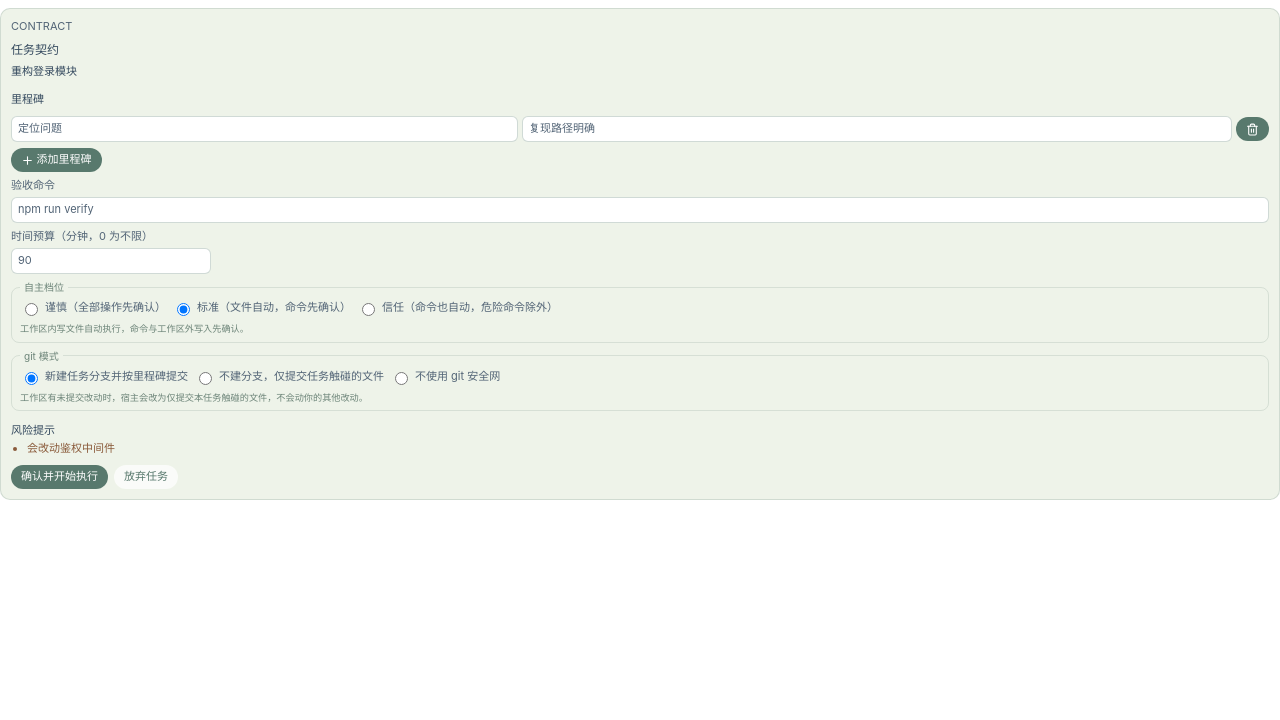
Test: adds and removes milestones before confirming
This screenshot has width=1280, height=720.
Click the button "添加里程碑" at (56, 160), box 11,148 -> 102,172
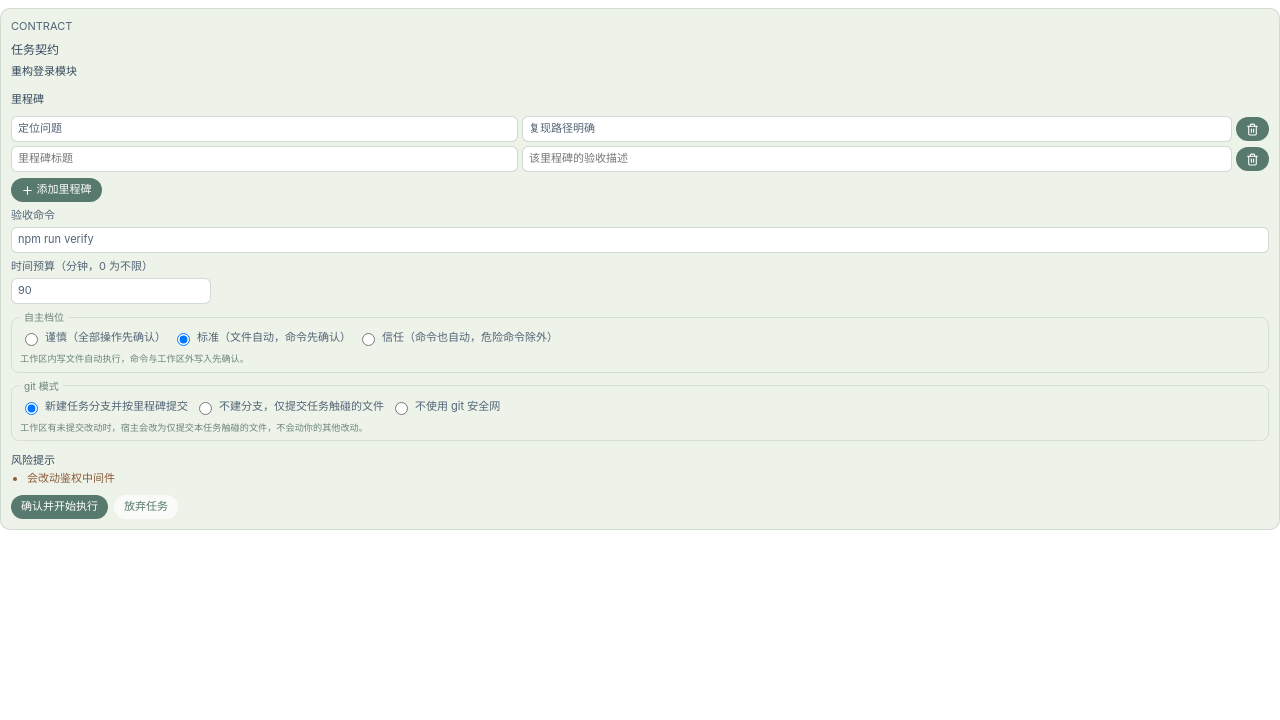
expect the number of fields named "里程碑标题" is 2: met, box 11,116 -> 518,142; 11,146 -> 518,172
Click the 2nd button named "删除里程碑" at (1252, 159), box 1236,147 -> 1269,171
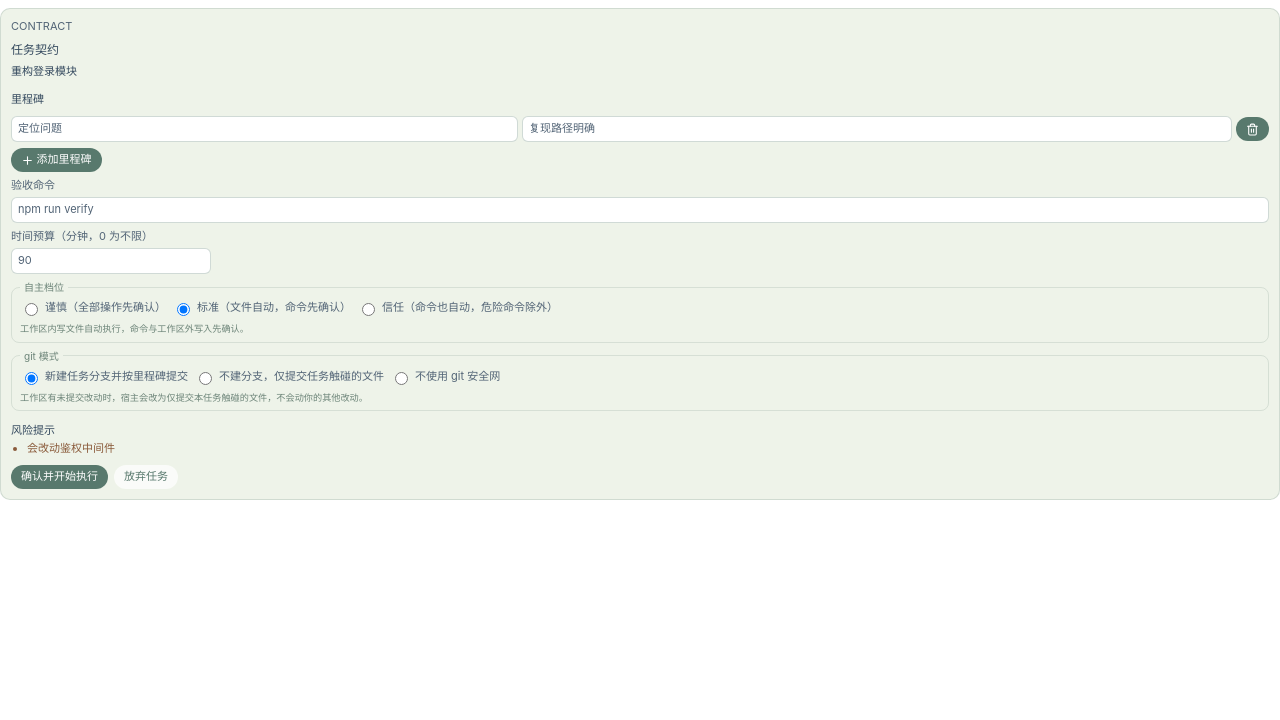
expect the number of fields named "里程碑标题" is 1: met, box 11,116 -> 518,142
